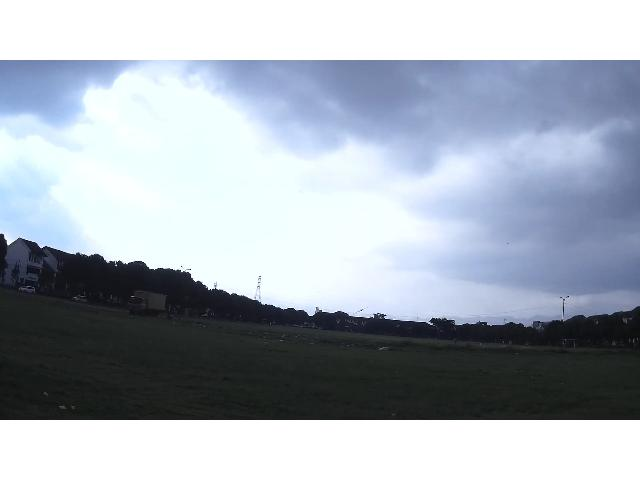Anti-Drone: (339, 300, 381, 318)
